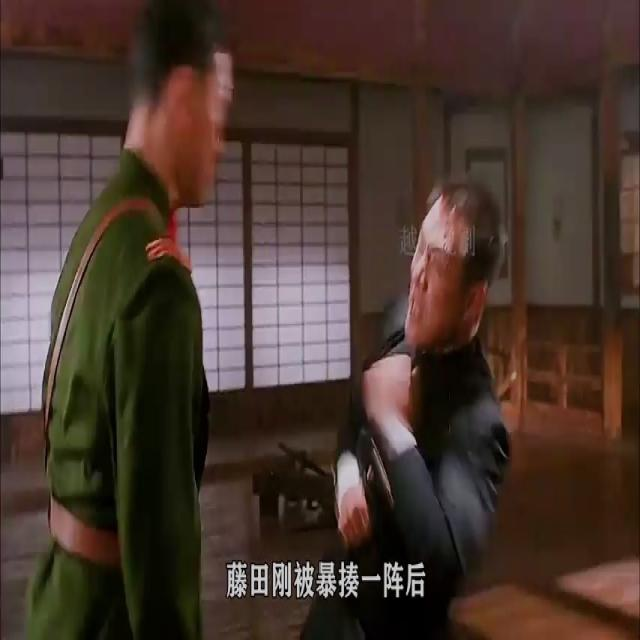fight: (16, 1, 534, 639)
